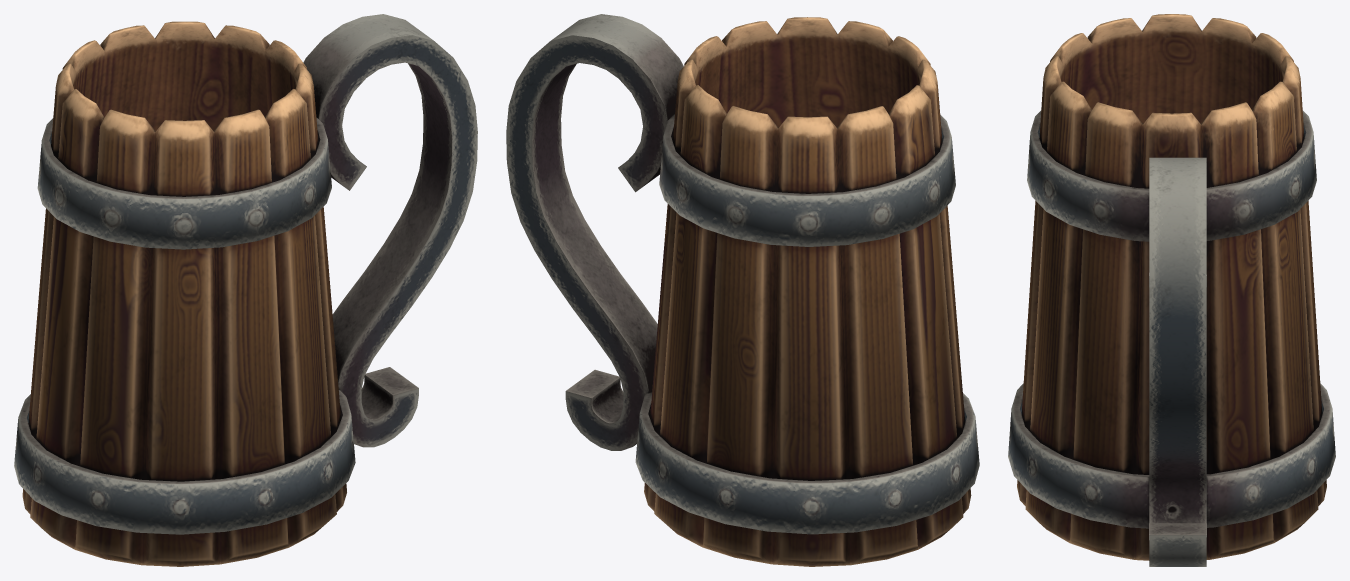
Rendered from obj_wooden_medival_mug_free_to_u_d240a7.glb.
3 renders of one model, left to right at view 1: azimuth 30°, elevation 25°; view 2: azimuth 150°, elevation 25°; view 3: azimuth 270°, elevation 25°, orthographic.
Visible parts, largest first — view 1: obj_wooden_medival_mug_free_to_u_d240a7; view 2: obj_wooden_medival_mug_free_to_u_d240a7; view 3: obj_wooden_medival_mug_free_to_u_d240a7.
Part boxes in pixels (x1,y1,x2,y2): obj_wooden_medival_mug_free_to_u_d240a7: (14, 14, 477, 566); obj_wooden_medival_mug_free_to_u_d240a7: (506, 14, 979, 566); obj_wooden_medival_mug_free_to_u_d240a7: (1008, 14, 1335, 566).
Bounding box in the file's own units: 0.1044 × 0.1 × 0.0687.
Materials: 1 (1 with a texture image).
